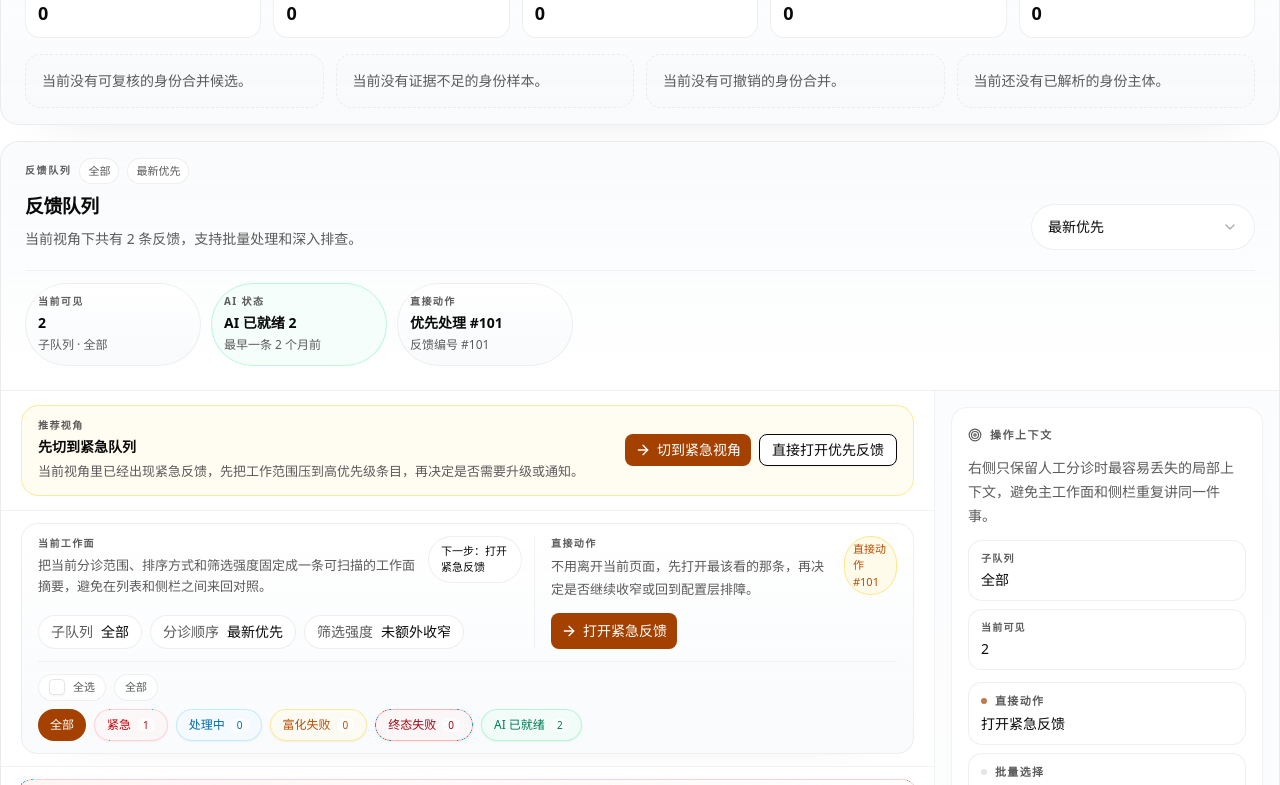
Scenario: _authed.feedback route — user flow smoke › recommended lane can switch into urgent scope before manual filtering
(page scrolled)
Click the button "切到紧急视角": (688, 450) [625,434,751,466]
(page scrolled)
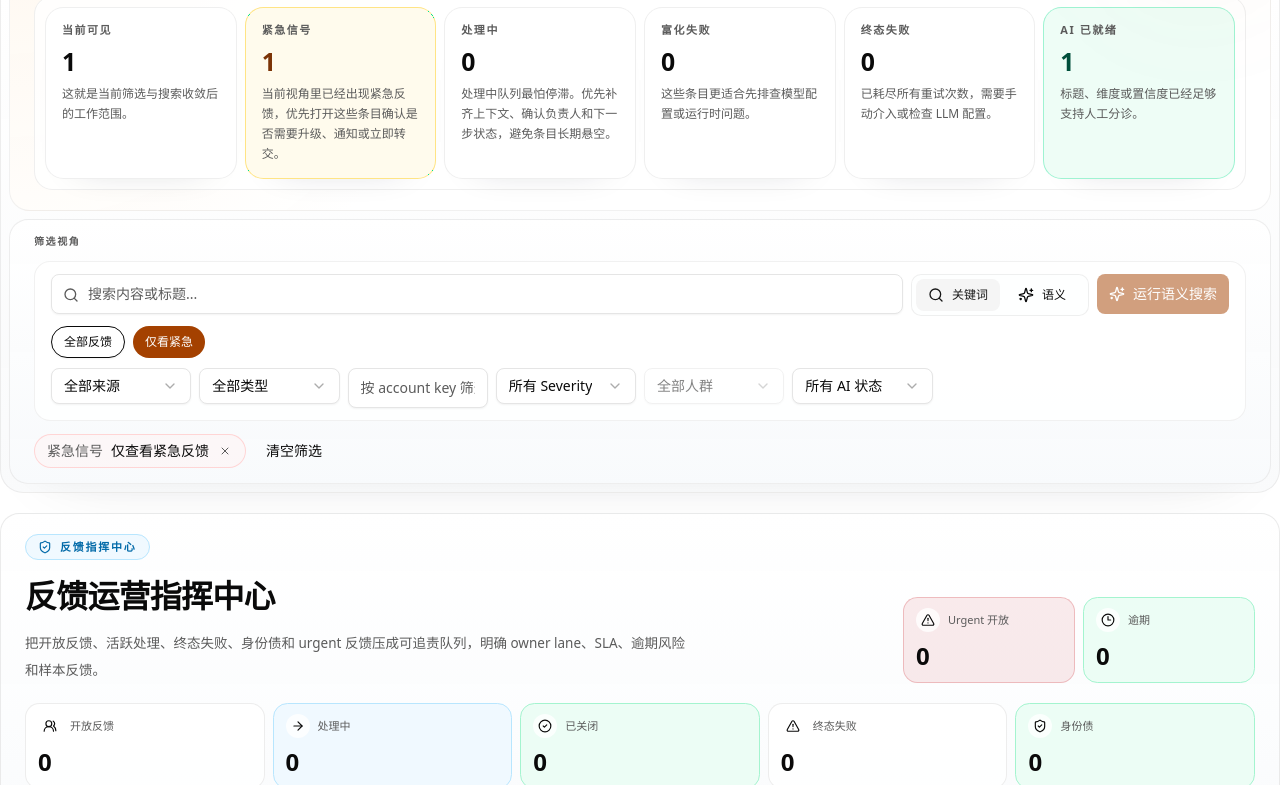
Result: the text "仅查看紧急反馈" is shown at [111,441,209,461]
